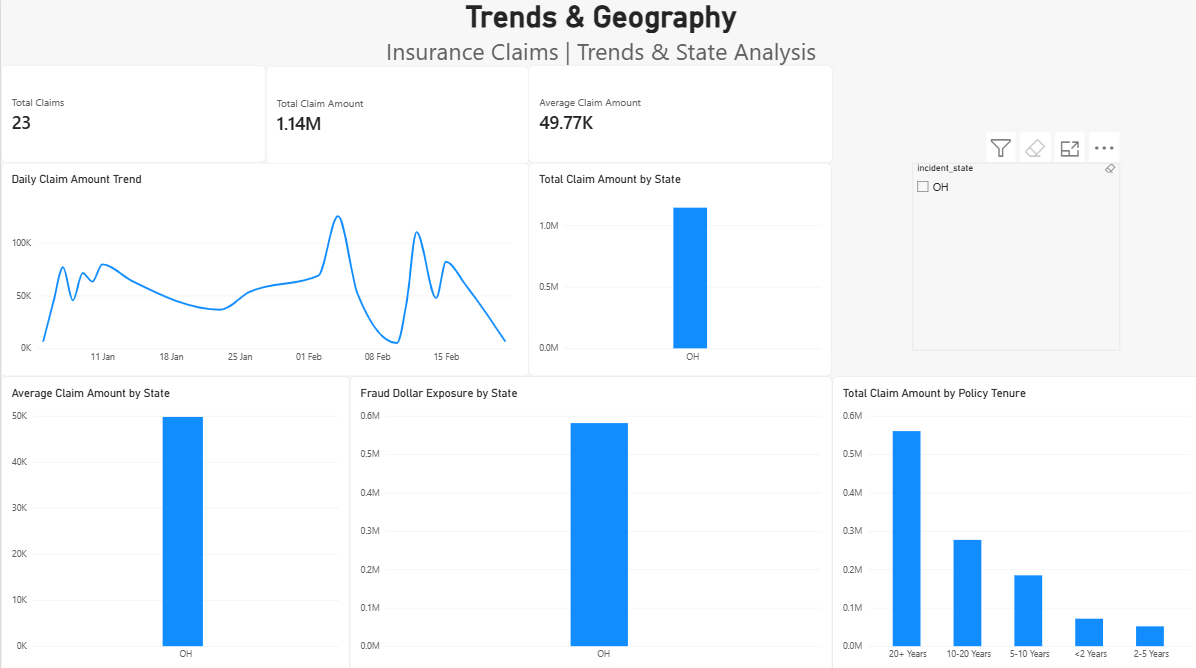

The dashboard page shown, as its layout file describes it:
{"tool":"powerbi","page":{"name":"Trends & Geography","canvas":[1920,1080],"ordinal":2},"visuals":[{"type":"clusteredColumnChart","title":"Total Claim Amount by State","fields":{"Category":["dim_incident.incident_state"],"Y":["Sum(fact_claims.total_claim_amount)"]},"box":[844.5,262.4,485.1,341.8],"z":0},{"type":"clusteredColumnChart","title":"Average Claim Amount by State","fields":{"Category":["dim_incident.incident_state"],"Y":["Avg(fact_claims.total_claim_amount)"]},"box":[0,604.1,557.8,476.3],"z":1},{"type":"lineChart","title":"Daily Claim Amount Trend","fields":{"Category":["dim_date.full_date"],"Y":["Sum(fact_claims.total_claim_amount)"]},"box":[0,262.4,844.5,341.8],"z":2},{"type":"clusteredColumnChart","title":"Total Claim Amount by Policy Tenure","fields":{"Category":["dim_policy.tenure_group"],"Y":["Sum(fact_claims.total_claim_amount)"]},"box":[1329.5,604.1,590.9,476.3],"z":3},{"type":"clusteredColumnChart","title":"Fraud Dollar Exposure by State","fields":{"Category":["dim_incident.incident_state"],"Y":["Sum(fact_claims.total_claim_amount)"]},"box":[557.8,604.1,771.7,476.3],"z":4},{"type":"cardVisual","fields":{"Data":["CountNonNull(fact_claims.claim_id)"]},"box":[0,105.8,423.3,156.5],"z":5},{"type":"cardVisual","fields":{"Data":["Sum(fact_claims.total_claim_amount)"]},"box":[423.3,108,421.1,156.5],"z":6},{"type":"cardVisual","fields":{"Data":["Avg(fact_claims.total_claim_amount)"]},"box":[844.5,105.8,487.3,156.5],"z":7},{"type":"slicer","fields":{"Values":["dim_incident.incident_state"]},"box":[1457.4,262.4,332.9,299.9],"z":8},{"type":"textbox","title":"Trends & Geography","box":[0,0,1920.4,141.1],"z":9}]}

Visuals, with their boxes in screenshot pixels (x1, y1, x2, y2), scaled from the page's 1920x1080 canvas onto the 1196x668 screenshot:
"Total Claim Amount by State" clusteredColumnChart: [526,162,828,374]
"Average Claim Amount by State" clusteredColumnChart: [0,374,347,667]
"Daily Claim Amount Trend" lineChart: [0,162,526,374]
"Total Claim Amount by Policy Tenure" clusteredColumnChart: [828,374,1195,667]
"Fraud Dollar Exposure by State" clusteredColumnChart: [347,374,828,667]
cardVisual - CountNonNull(fact_claims.claim_id): [0,65,264,162]
cardVisual - Sum(fact_claims.total_claim_amount): [264,67,526,164]
cardVisual - Avg(fact_claims.total_claim_amount): [526,65,830,162]
slicer - dim_incident.incident_state: [908,162,1115,348]
"Trends & Geography" textbox: [0,0,1195,87]
